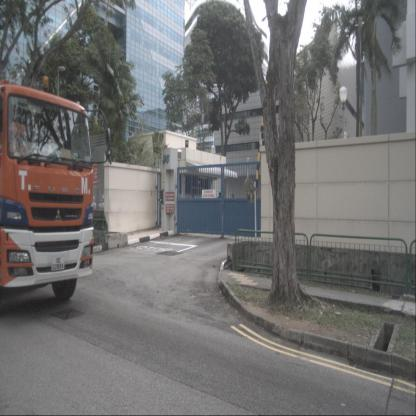human-pedestrian-adult: (218, 192, 223, 220), (232, 193, 235, 222)
vehicle-truck: (0, 76, 94, 299)
